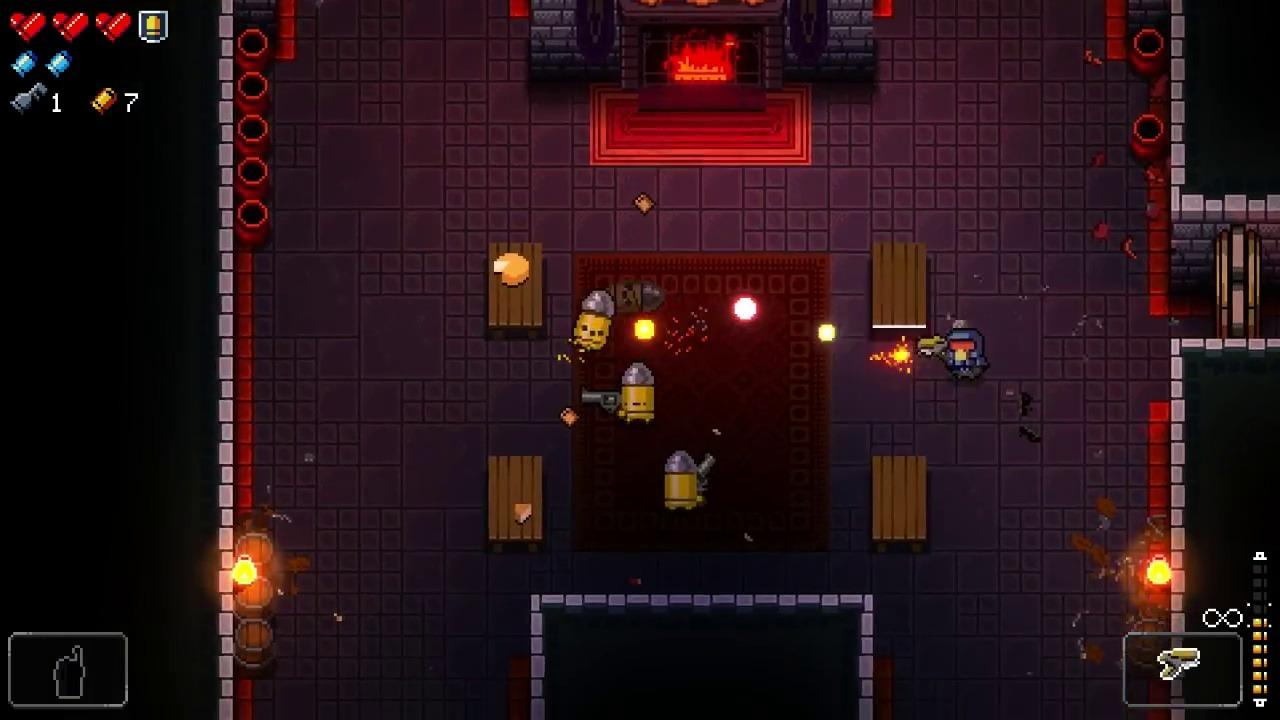bullet: (732, 294, 758, 324)
bullet_kin: (574, 290, 614, 352), (621, 362, 654, 427), (664, 450, 697, 512)
dead_veteran_bullet_kin: (609, 281, 666, 314)
locked_door: (1217, 224, 1259, 340)
player: (944, 327, 986, 383)
table: (489, 242, 543, 341), (488, 456, 542, 554), (872, 243, 927, 339), (873, 456, 926, 553)
